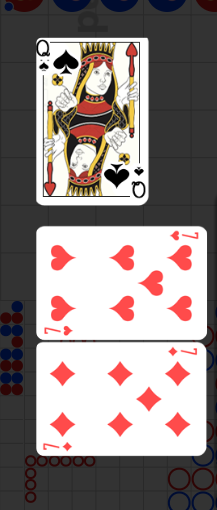7D: (167, 346, 198, 358)
7H: (168, 229, 200, 242)
9S: (37, 40, 51, 73)
